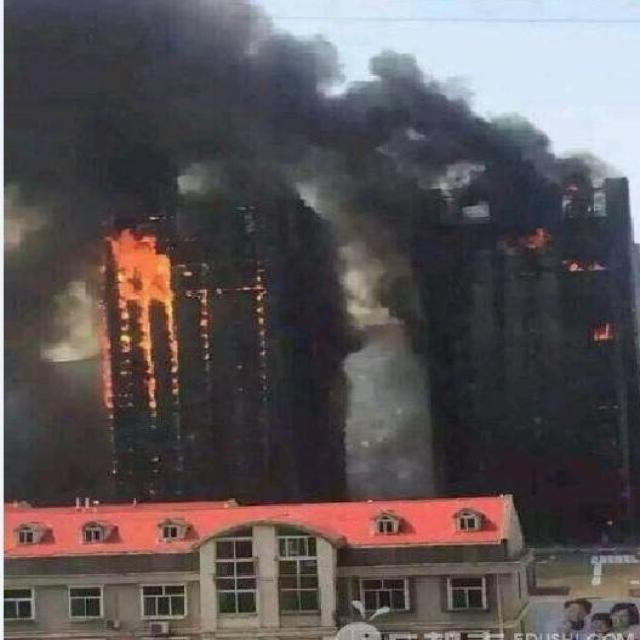Fire: (96, 226, 266, 411), (564, 256, 608, 272), (592, 322, 612, 342)
Smoke: (1, 1, 614, 379)
